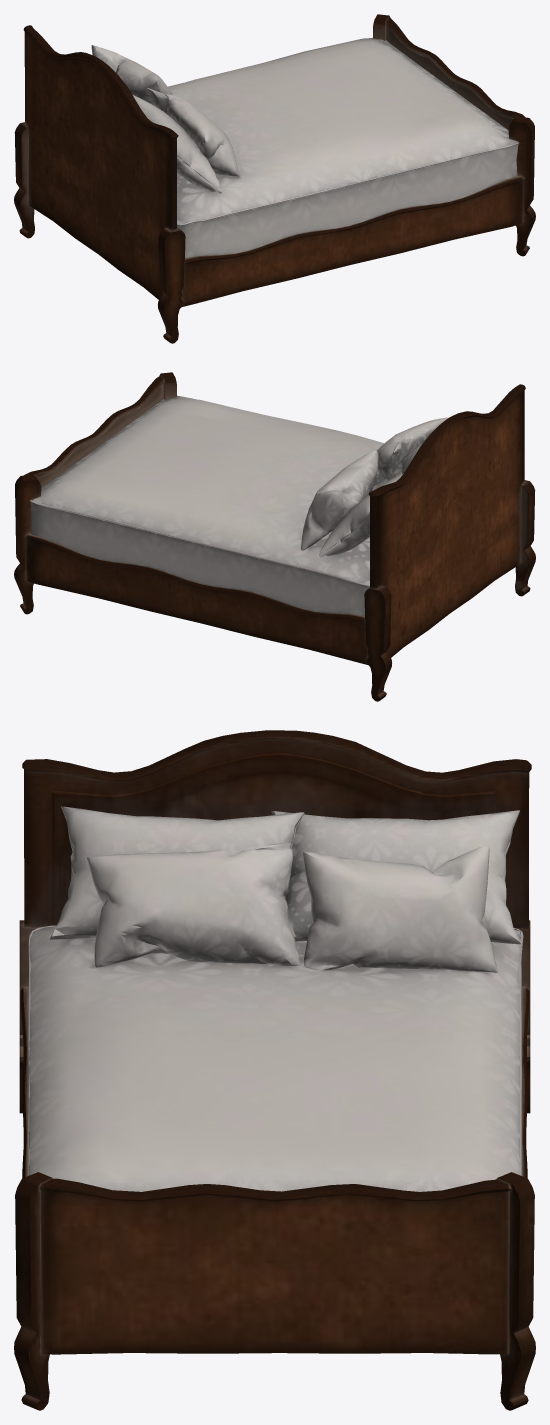
Rendered from bed-victorian-carved.lod1.glb.
The picture shows the model from 3 angles, top to bottom: view 1: azimuth 30°, elevation 25°; view 2: azimuth 150°, elevation 25°; view 3: azimuth 270°, elevation 25°; orthographic projection. The views are drawn at different scales.
Parts seen in each view (by area): view 1: bed-victorian-carved; view 2: bed-victorian-carved; view 3: bed-victorian-carved.
Boxes of the visible parts, x1,y1,x2,y2 form: bed-victorian-carved: [14, 14, 535, 343]; bed-victorian-carved: [14, 372, 535, 701]; bed-victorian-carved: [14, 730, 535, 1410].
Size of the model in its own units: 2.05 by 1.18 by 1.45.
Materials: 3 (3 with a texture image).
